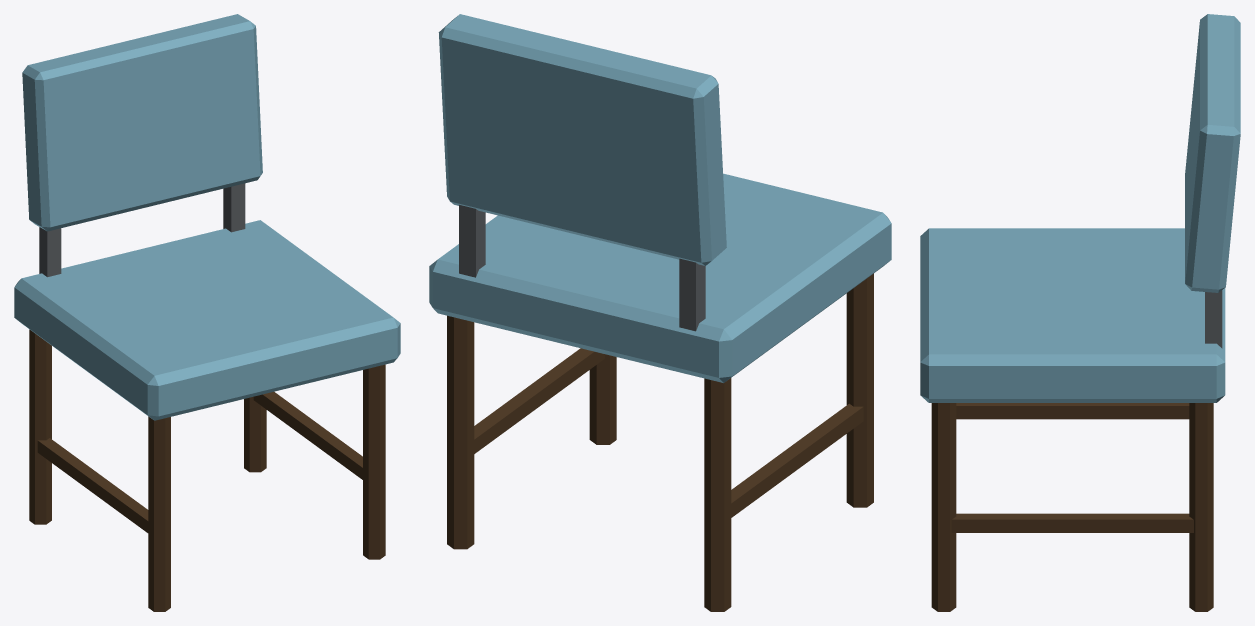
Rendered from office-chair-13.glb.
3 renders of one model, left to right at view 1: azimuth 30°, elevation 25°; view 2: azimuth 150°, elevation 25°; view 3: azimuth 270°, elevation 25°, orthographic. The views are drawn at different scales.
Parts seen in each view (by area): view 1: office_chair_13; view 2: office_chair_13; view 3: office_chair_13.
Part boxes in pixels (x1,y1,x2,y2): office_chair_13: (14, 14, 400, 611); office_chair_13: (429, 14, 891, 611); office_chair_13: (920, 14, 1240, 611).
Size of the model in its own units: 0.5419 by 0.912 by 0.5504.
